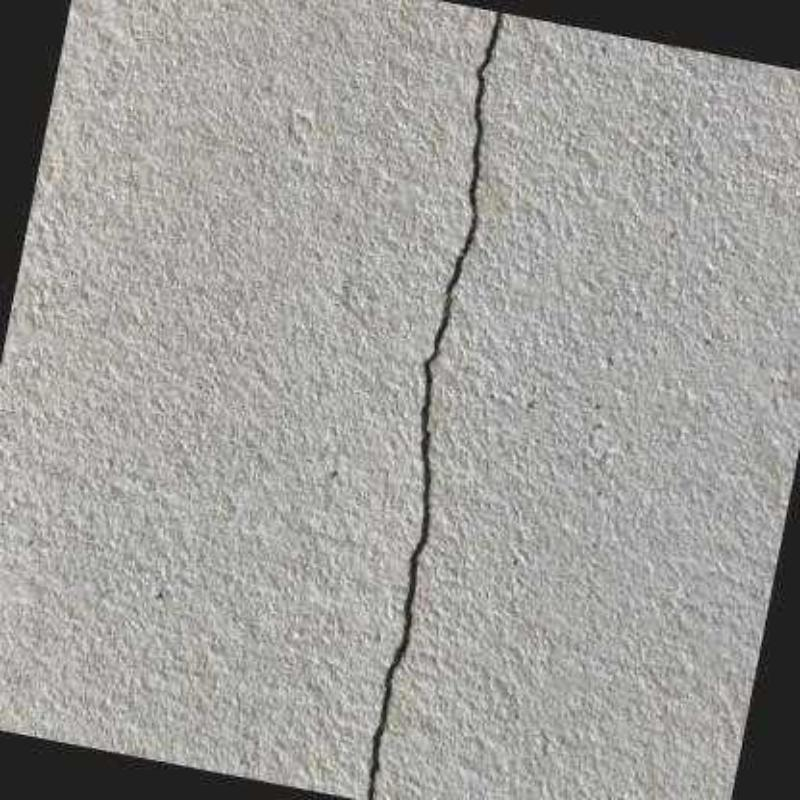pothole: (368, 12, 506, 799)
